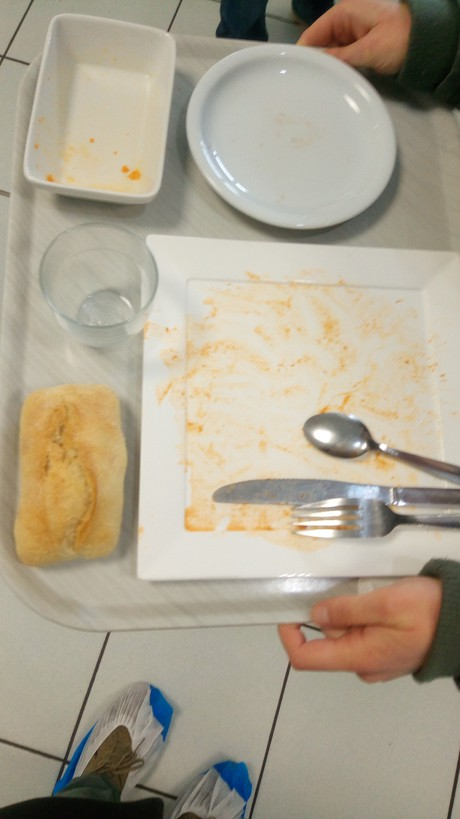cup: (16, 215, 167, 344)
cutlery: (211, 467, 460, 554), (290, 414, 460, 485)
orga: (17, 374, 135, 566)
